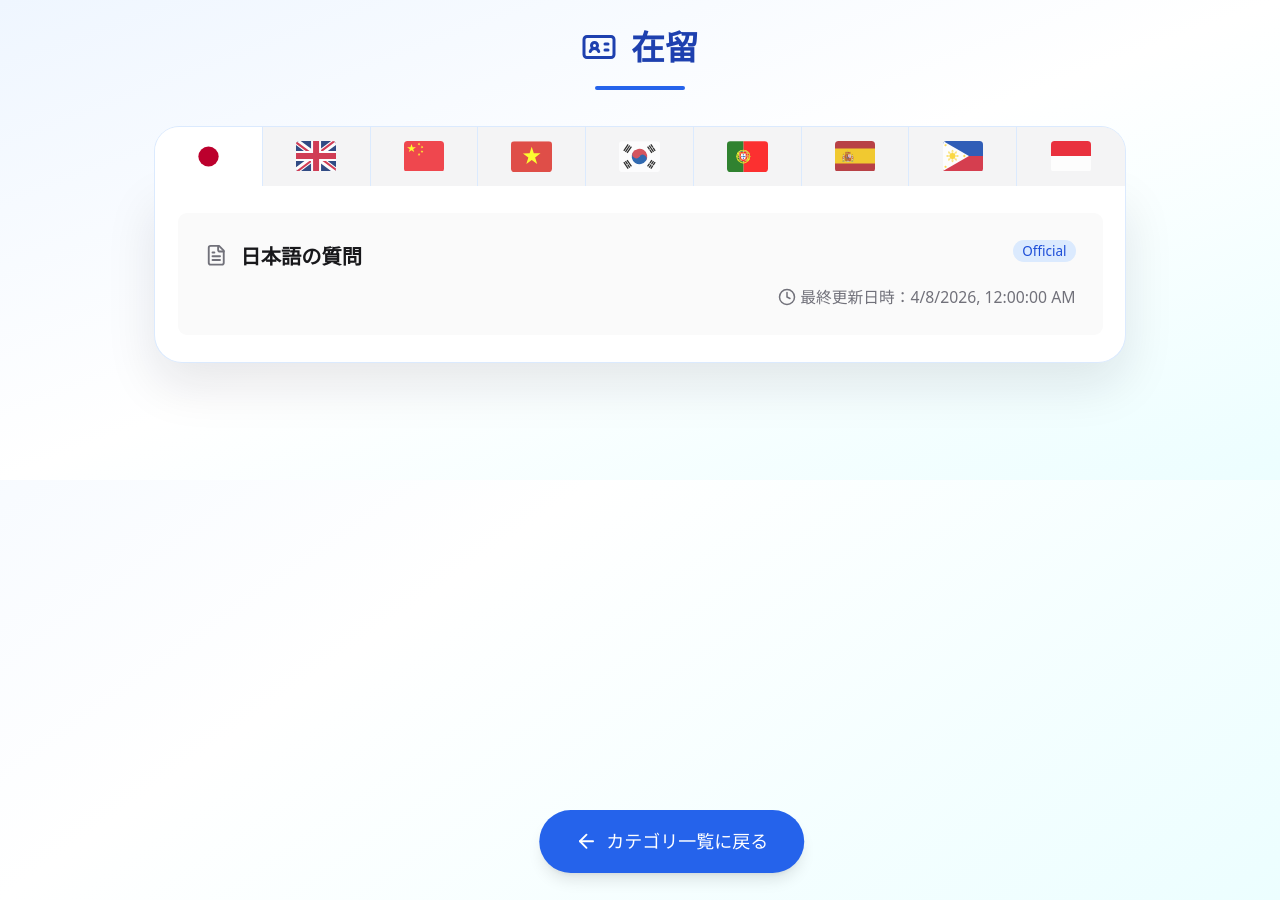
Test: CategoryDetailPage › translates QA text in place and keeps the expanded answer open
The image size is (1280, 900).
Expected: the heading "在留" is shown, [631,27,698,68]
Expected: the element with test id "qa-language-tabs" is shown, [154,126,1126,363]
Click the text "日本語の質問". click: (301, 256)
box: [240,242,362,270]
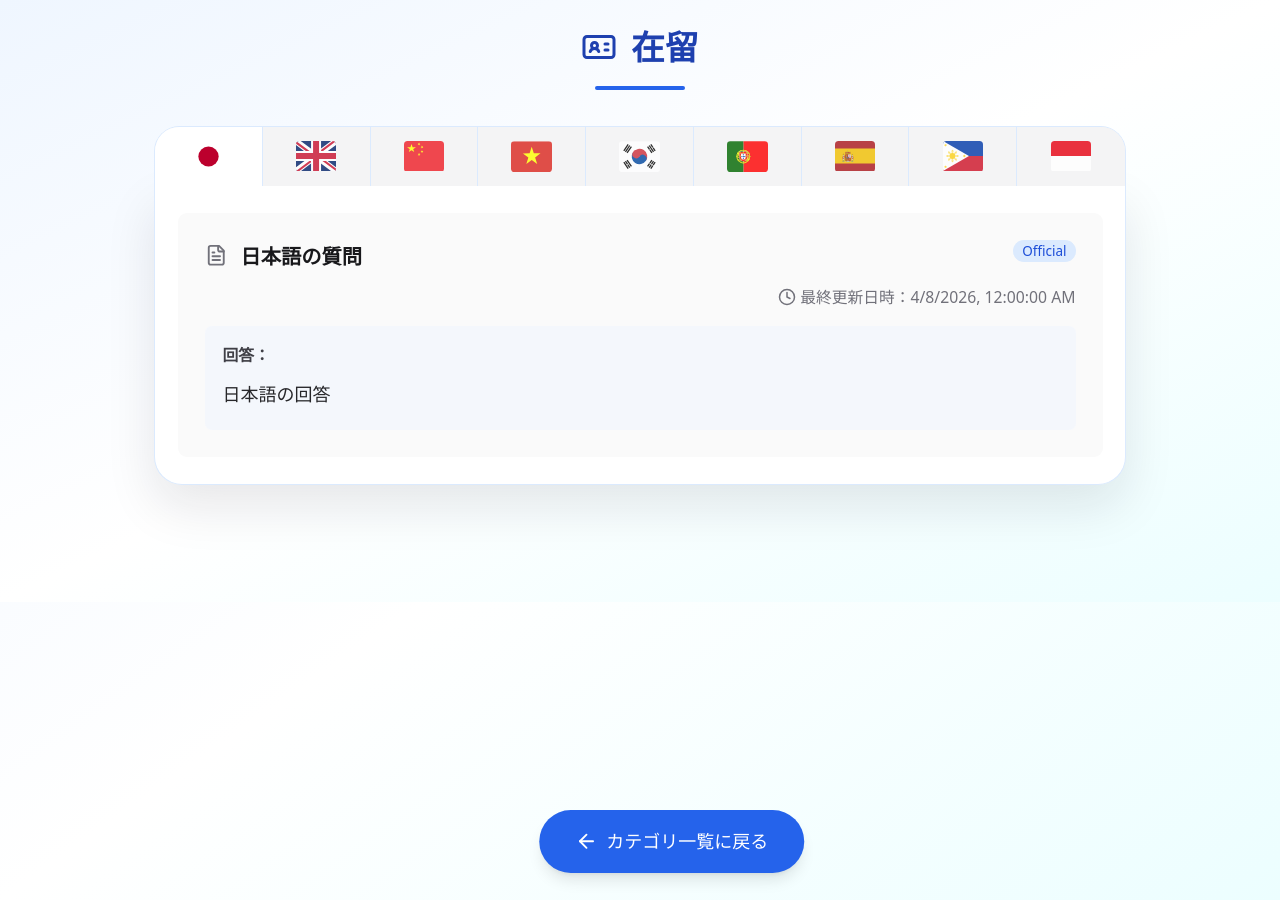
Expected: the text "日本語の回答" is shown, [222,382,330,406]
Click the tab named "English". click: (317, 156)
box: [263,127,371,186]
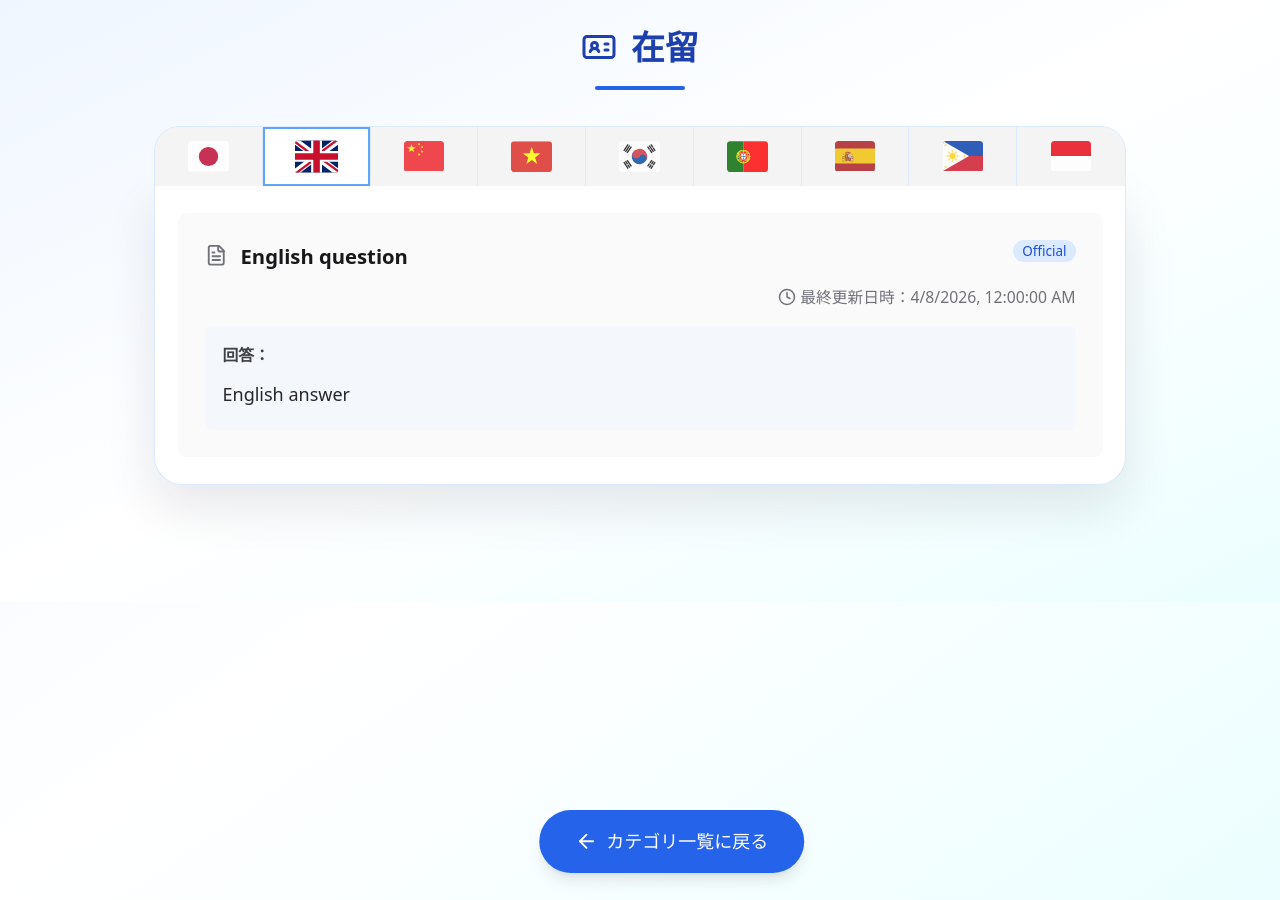
Expected: the heading "在留" is shown, [631,27,698,68]
Expected: the text "English question" is shown, [240,242,408,270]
Expected: the text "English answer" is shown, [222,382,350,406]
